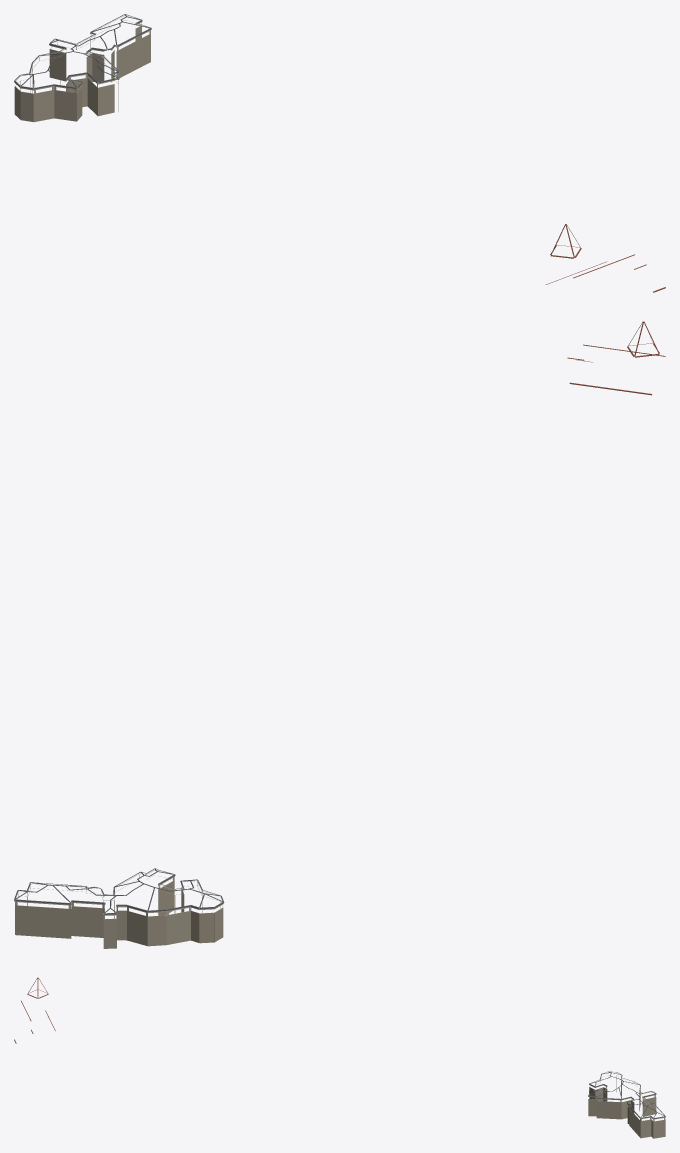
3 views of the same model, one above another, from view 1: azimuth 30°, elevation 25°; view 2: azimuth 150°, elevation 25°; view 3: azimuth 270°, elevation 25° (orthographic). The views are drawn at different scales.
Parts seen in each view (by area): view 1: detail; view 2: detail; view 3: detail.
Part boxes in pixels (left/top/right/bottom): detail: left=14, top=14, right=665, bottom=292; detail: left=14, top=321, right=665, bottom=948; detail: left=14, top=977, right=665, bottom=1138.
Size of the model in its own units: 48.91 by 65.83 by 287.
